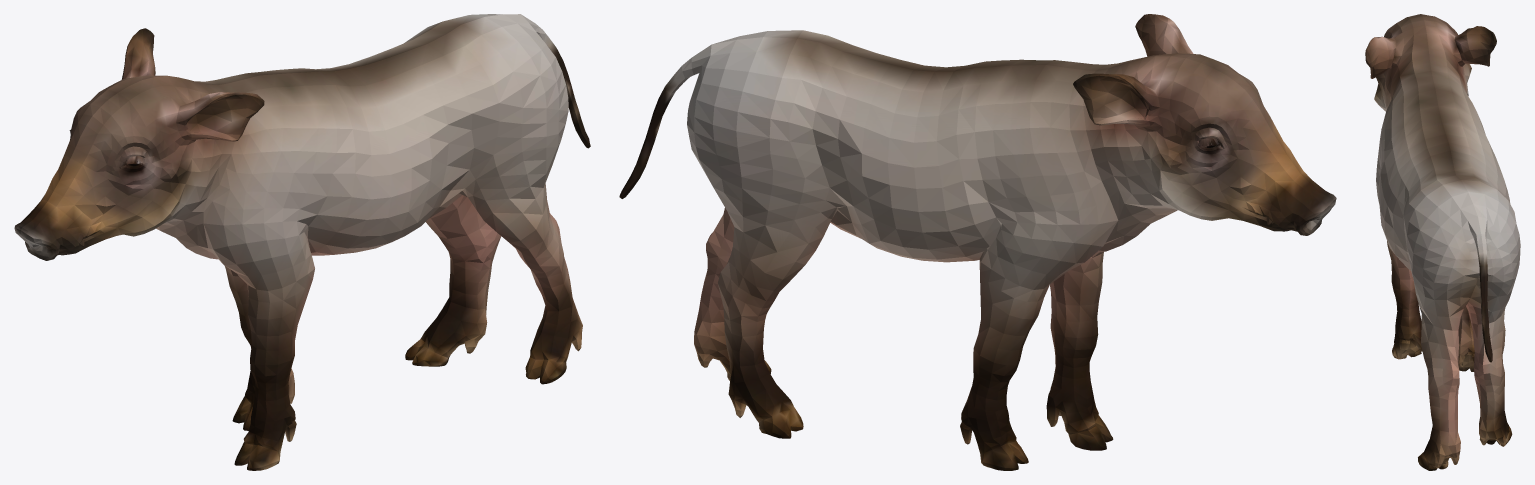
File: warthog.mesh.glb
3 views of the same model, side by side, from view 1: azimuth 30°, elevation 25°; view 2: azimuth 150°, elevation 25°; view 3: azimuth 270°, elevation 25° (orthographic). The views are drawn at different scales.
Parts seen in each view (by area): view 1: root; view 2: root; view 3: root.
Part boxes in pixels (box(x1,y1,x2,y2)): root: box(14, 14, 590, 470); root: box(619, 14, 1336, 470); root: box(1365, 14, 1520, 470).
Size of the model in its own units: 0.7497 by 0.4688 by 0.2172.
1 material, 1 textured.
